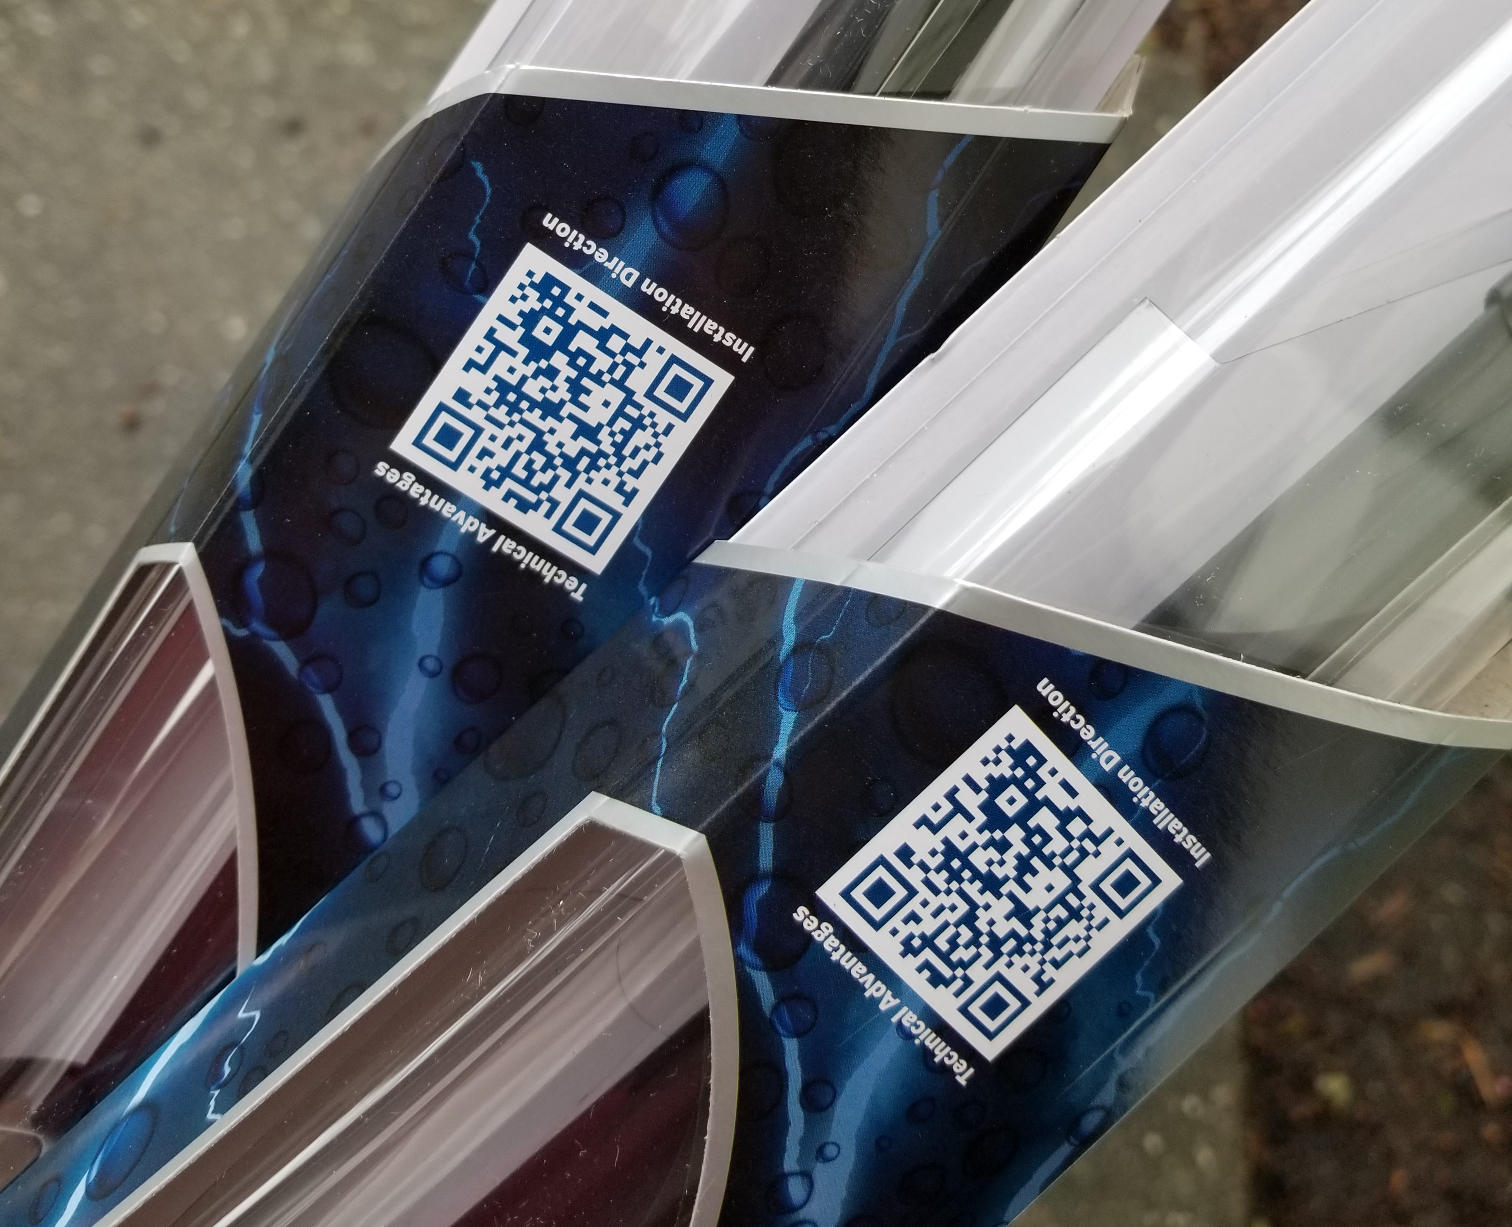QR_CODE: (819, 692, 1179, 1065), (386, 217, 741, 588)
